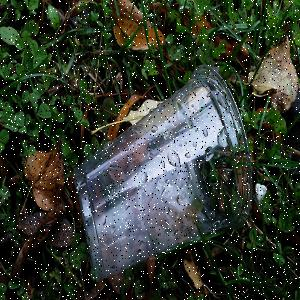Cup: (73, 65, 256, 286)
